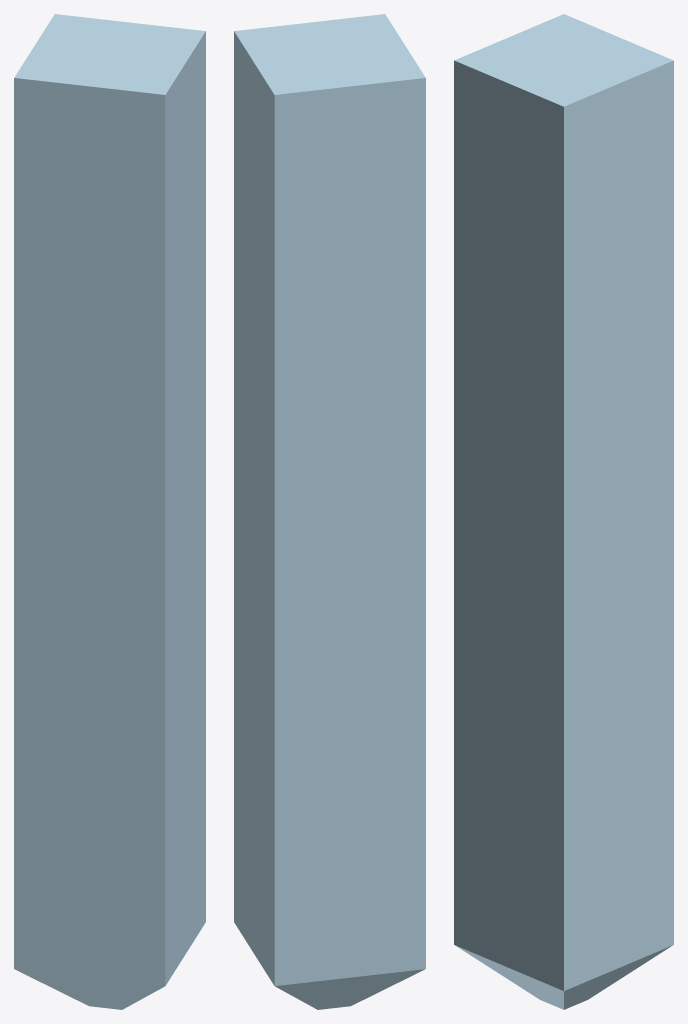
Rendered from Exc_Motor_5203_2402_0188_52.obj.
3 views of the same model, side by side, from view 1: azimuth 30°, elevation 25°; view 2: azimuth 150°, elevation 25°; view 3: azimuth 270°, elevation 25° (orthographic).
Parts seen in each view (by area): view 1: mesh28606; view 2: mesh28606; view 3: mesh28606.
Part boxes in pixels (left/top/right/bottom): mesh28606: left=14, top=14, right=205, bottom=1009; mesh28606: left=234, top=14, right=425, bottom=1009; mesh28606: left=454, top=14, right=673, bottom=1009.
Size of the model in its own units: 0.000905 by 0.00427 by 0.000905.
